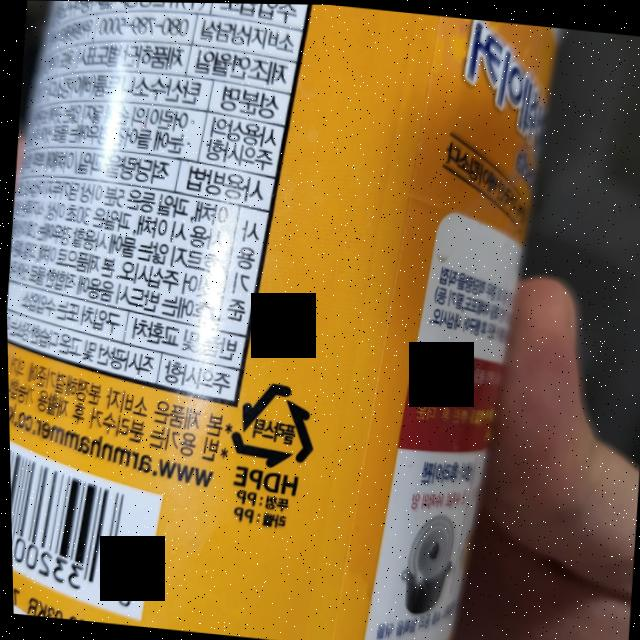Plastic: (223, 373, 325, 470)
